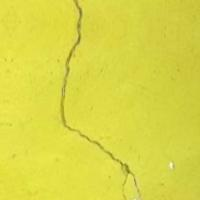crack: (42, 1, 138, 195)
